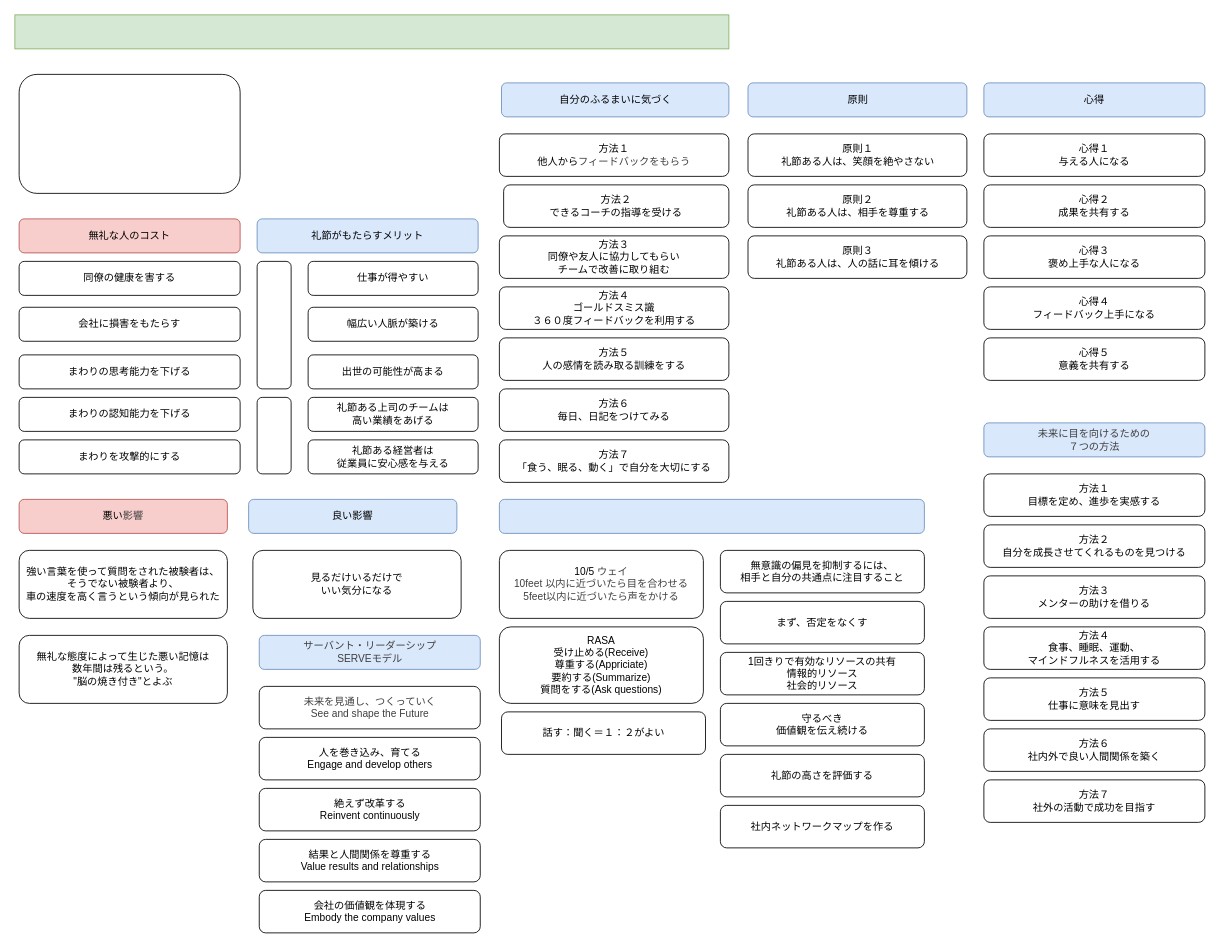
Some shapes in this 1220 by 948 pixel diagram are drawn without their labels. Each missing label, with the centre of its shape:
"Think CIVILITY ～ Mastering Civility : A Manufest for the Workshplace ～" goes at [371,31].
"個人" goes at [273,325].
"善い実践" goes at [711,516].
"礼節が悪化し続ける理由 ① グローバリゼーション ② 世代の違い ③ 職場環境とそこでの人間関係の変化 ④ 発達したテクノロジー" goes at [129,133].
"組織" goes at [273,435].
